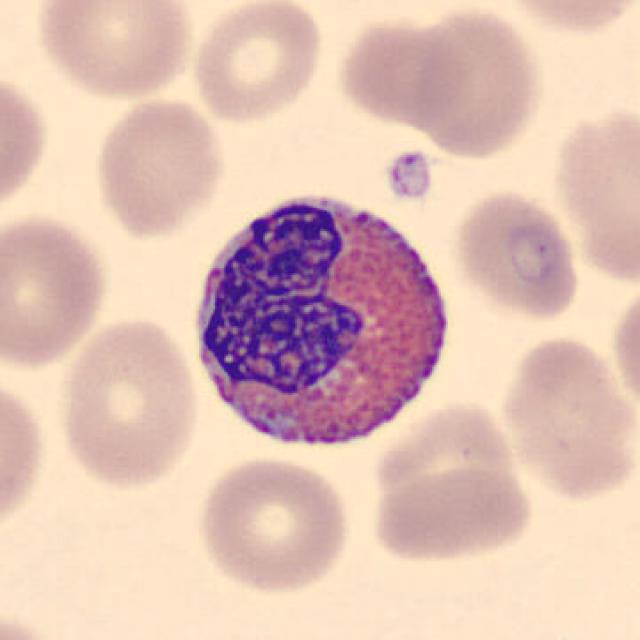Eosinophil: (181, 175, 464, 469)
Platelets: (382, 146, 434, 203)
RBC: (54, 312, 204, 492), (496, 330, 638, 504), (192, 453, 356, 596), (364, 430, 537, 564), (407, 4, 546, 162), (89, 94, 229, 242), (0, 208, 114, 370), (450, 185, 583, 323), (547, 97, 640, 291), (187, 0, 327, 127), (30, 0, 199, 102), (332, 10, 477, 128), (0, 368, 52, 546), (0, 65, 53, 227), (496, 0, 640, 39), (606, 277, 640, 425), (0, 603, 75, 640)
